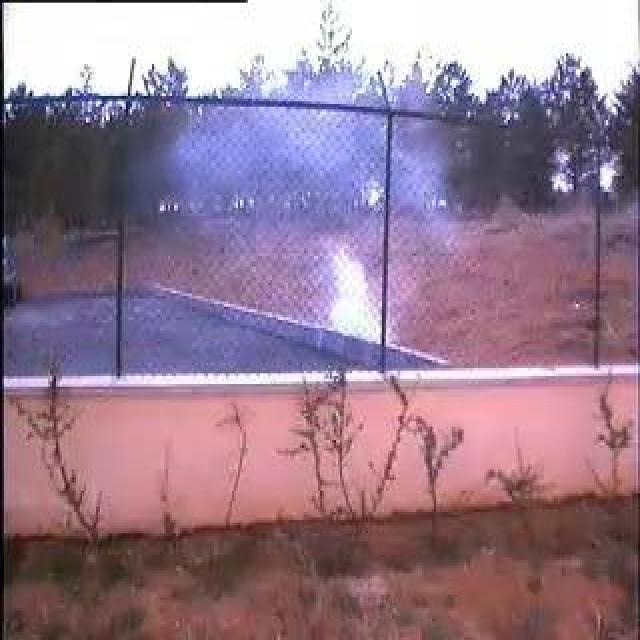Smoke: (197, 103, 409, 345)
